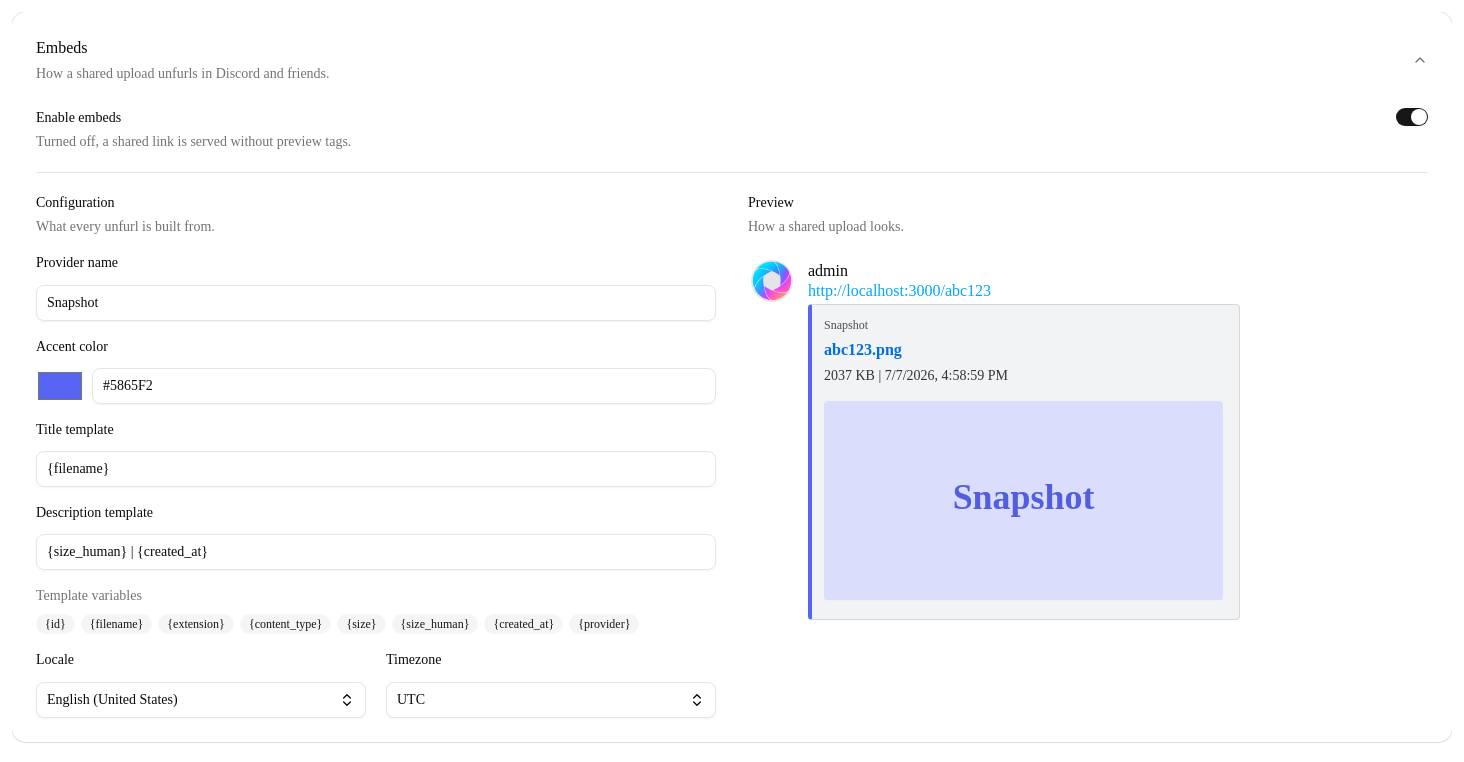
Test case: UploadSettings › says beside the preview that embeds are off once the toggle is flipped
Expected: the text "How a shared upload looks." is shown, [748,219,904,234]
Click the switch named "Enable embeds": x=1412, y=117 [1396,108,1428,126]
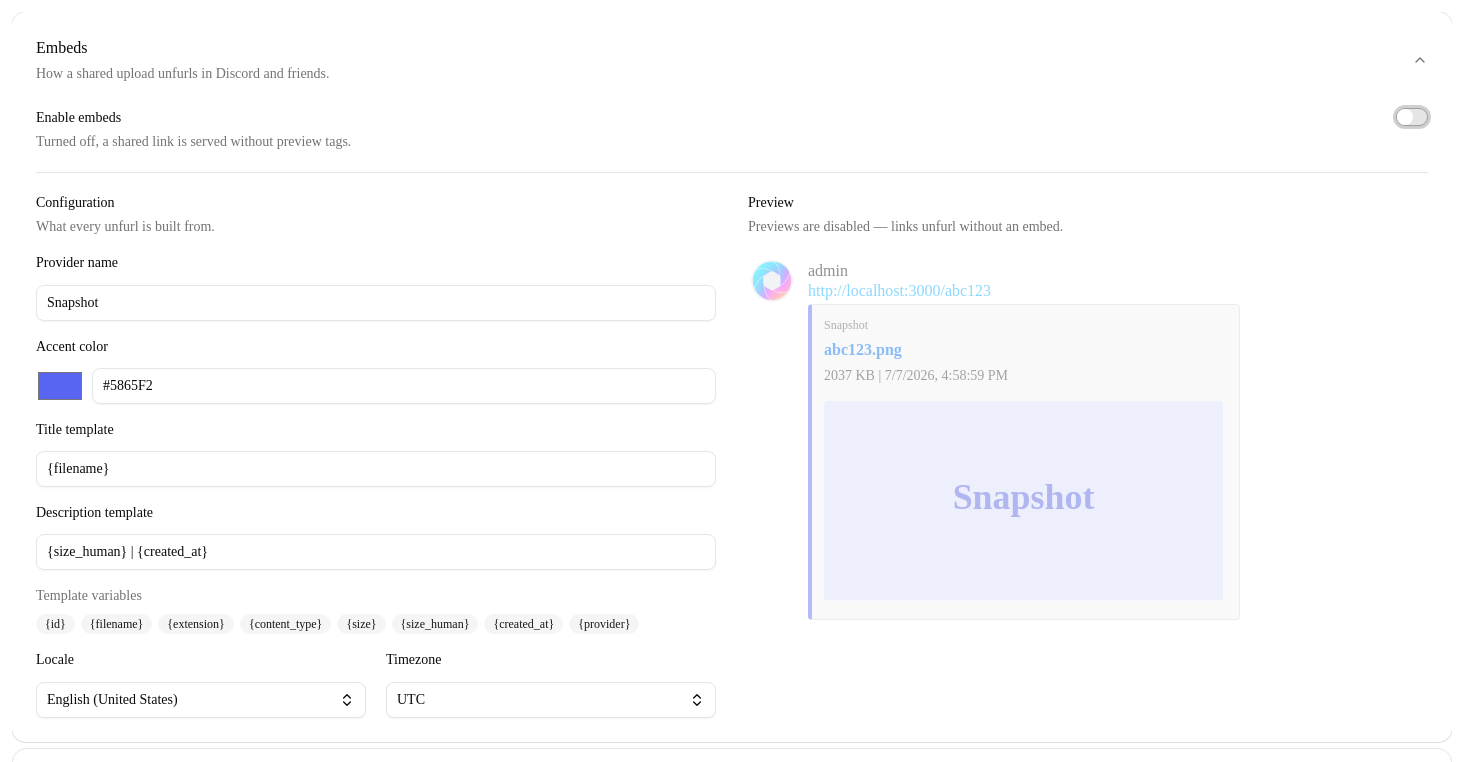
Now the text "Previews are disabled — links unfurl without an embed." is shown, box [748,219,1063,234]
